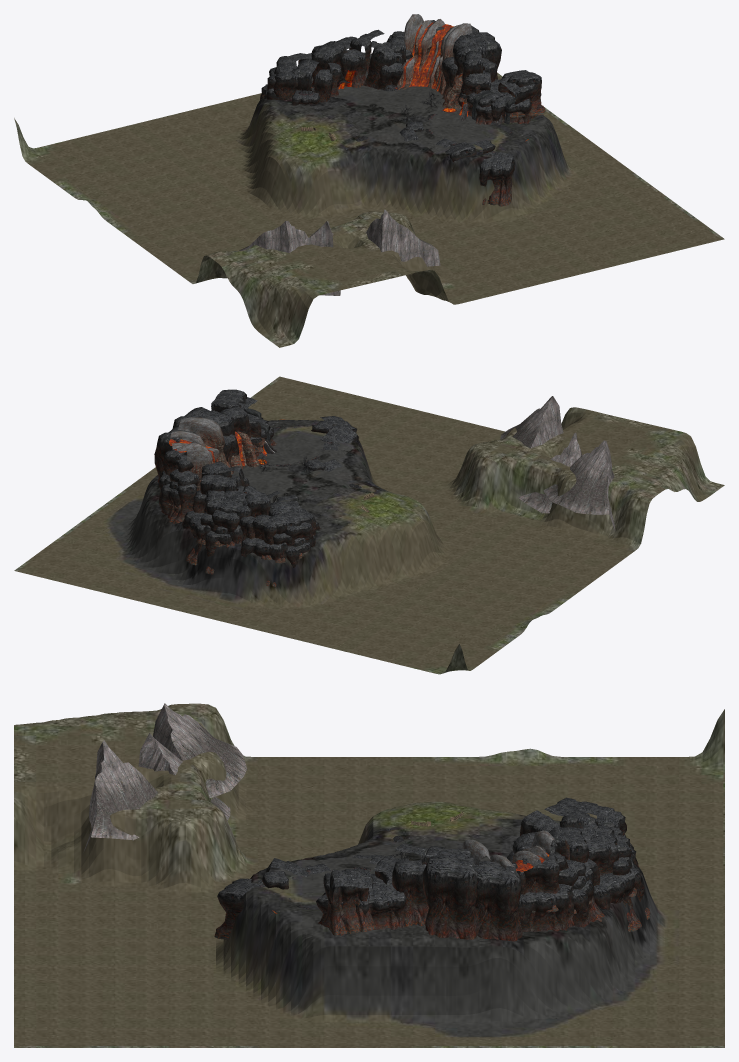
Rendered from blazing_swamp.glb.
The picture shows the model from 3 angles, top to bottom: view 1: azimuth 30°, elevation 25°; view 2: azimuth 150°, elevation 25°; view 3: azimuth 270°, elevation 25°; orthographic projection. The views are drawn at different scales.
Visible parts, largest first — view 1: Terreno, StaticMeshActor54, StaticMeshActor22, StaticMeshActor782, StaticMeshActor996, StaticMeshActor1153, StaticMeshActor324, StaticMeshActor279, StaticMeshActor762, StaticMeshActor319, StaticMeshActor267, StaticMeshActor313 (+3 smaller); view 2: Terreno, StaticMeshActor996, StaticMeshActor54, StaticMeshActor22, StaticMeshActor995, StaticMeshActor1060, StaticMeshActor286, StaticMeshActor279, StaticMeshActor55, StaticMeshActor295, StaticMeshActor282, StaticMeshActor271 (+7 smaller); view 3: Terreno, StaticMeshActor320, StaticMeshActor22, StaticMeshActor996, StaticMeshActor538, StaticMeshActor267, StaticMeshActor1117, StaticMeshActor262, StaticMeshActor774, StaticMeshActor54, StaticMeshActor295, StaticMeshActor995 (+7 smaller).
Part boxes in pixels (x1,y1,x2,y2): Terreno: (14, 70, 724, 347); StaticMeshActor54: (394, 14, 472, 94); StaticMeshActor22: (366, 209, 440, 266); StaticMeshActor782: (479, 152, 514, 206); StaticMeshActor996: (226, 221, 308, 276); StaticMeshActor1153: (363, 42, 412, 87); StaticMeshActor324: (498, 70, 543, 117); StaticMeshActor279: (273, 57, 297, 100); StaticMeshActor762: (491, 93, 531, 123); StaticMeshActor319: (453, 35, 485, 75); StaticMeshActor267: (498, 76, 545, 120); StaticMeshActor313: (452, 70, 491, 107); Terreno: (14, 376, 724, 674); StaticMeshActor996: (543, 440, 615, 531); StaticMeshActor54: (169, 417, 233, 490); StaticMeshActor22: (500, 396, 563, 448); StaticMeshActor995: (518, 432, 581, 513); StaticMeshActor1060: (164, 475, 196, 523); StaticMeshActor286: (241, 537, 283, 586); StaticMeshActor279: (269, 508, 316, 535); StaticMeshActor55: (231, 431, 259, 471); StaticMeshActor295: (182, 510, 205, 565); StaticMeshActor282: (252, 514, 277, 560); StaticMeshActor271: (200, 474, 238, 494); Terreno: (14, 703, 724, 1047); StaticMeshActor320: (423, 854, 480, 939); StaticMeshActor22: (83, 740, 158, 852); StaticMeshActor996: (153, 703, 247, 797); StaticMeshActor538: (474, 860, 522, 941); StaticMeshActor267: (323, 868, 375, 935); StaticMeshActor1117: (517, 889, 569, 931); StaticMeshActor262: (392, 860, 428, 927); StaticMeshActor774: (356, 883, 406, 929); StaticMeshActor54: (462, 830, 554, 871); StaticMeshActor295: (593, 872, 641, 931); StaticMeshActor995: (138, 732, 230, 820).
Size of the model in its own units: 330 by 78.93 by 340.
68 materials, 67 textured.
